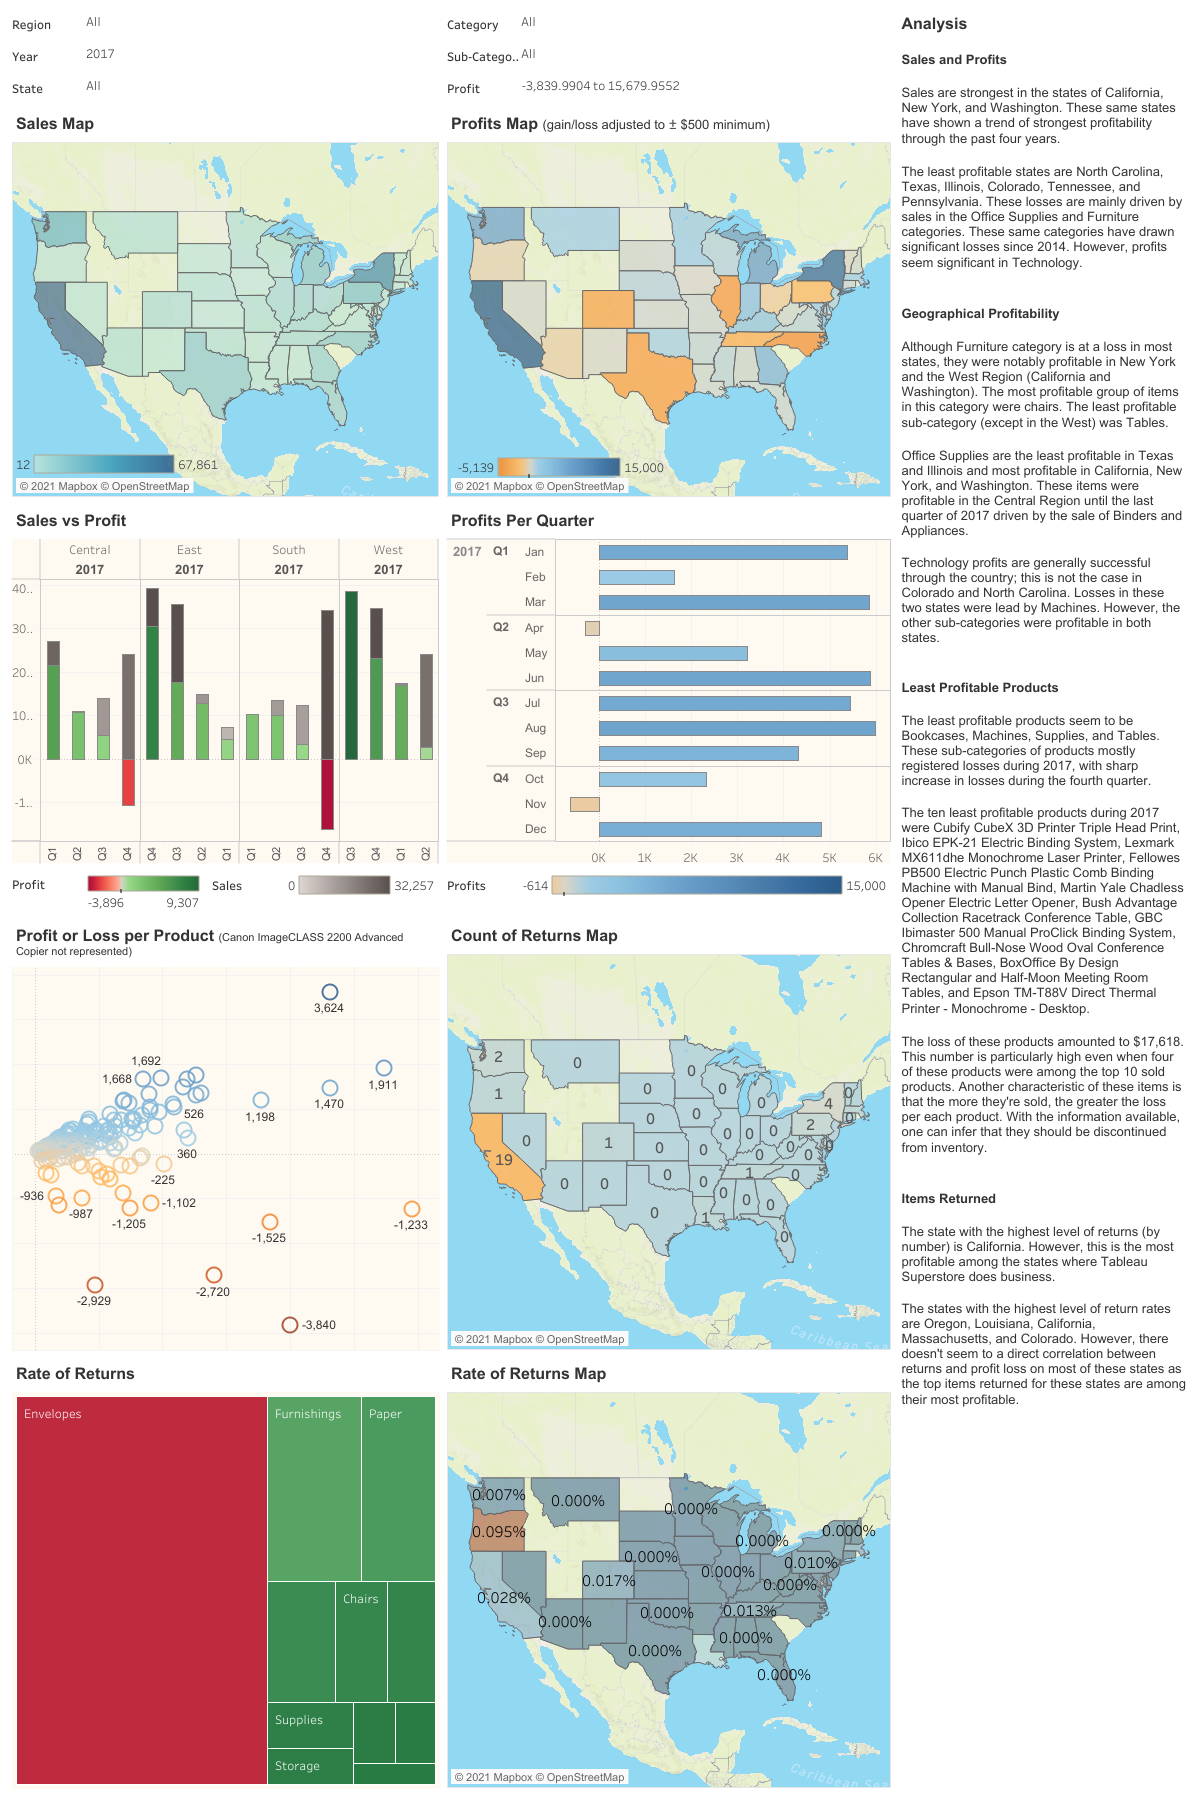

This screenshot's page, from the dashboard's own definition file:
{"tool":"tableau","page":{"name":"Sales and Profits Dashboard","canvas":[1200,1800],"ordinal":0},"visuals":[{"type":"worksheet","box":[0,0,1200,1800]},{"type":"worksheet","title":"Sales Map","mark":"Automatic","param":"[federated.139qztq1fd67im1fcwr2b0no60oc].[none:Region:nk]","box":[8,8,435,32]},{"type":"worksheet","param":"horz","box":[443,8,452.3,493]},{"type":"worksheet","box":[443,8,452.3,493]},{"type":"worksheet","box":[443,8,452.3,96]},{"type":"worksheet","box":[443,8,452.3,64]},{"type":"worksheet","param":"vert","box":[443,8,452.3,32]},{"type":"worksheet","title":"Product Profitability","mark":"Shape","rows":["Profit"],"cols":["Sales"],"param":"[federated.139qztq1fd67im1fcwr2b0no60oc].[none:Category:nk]","box":[443,8,452.3,32]},{"type":"worksheet","box":[895.3,8,296.7,1784]},{"type":"worksheet","title":"Sales vs Profit","mark":"Bar","rows":["Sales","Profit"],"cols":["Region","Order Date","Order Date"],"param":"[federated.139qztq1fd67im1fcwr2b0no60oc].[yr:Order Date:ok]","box":[8,40,435,32]},{"type":"worksheet","param":"vert","box":[443,40,452.3,32]},{"type":"worksheet","title":"Product Profitability","mark":"Shape","rows":["Profit"],"cols":["Sales"],"param":"[federated.139qztq1fd67im1fcwr2b0no60oc].[none:Sub-Category:nk]","box":[443,40,452.3,32]},{"type":"worksheet","title":"Product Profitability","mark":"Shape","rows":["Profit"],"cols":["Sales"],"param":"[federated.139qztq1fd67im1fcwr2b0no60oc].[none:State:nk]","box":[8,72,435,32]},{"type":"worksheet","param":"vert","box":[443,72,452.3,32]},{"type":"worksheet","title":"Product Profitability","mark":"Shape","rows":["Profit"],"cols":["Sales"],"param":"[federated.139qztq1fd67im1fcwr2b0no60oc].[sum:Profit:qk]","box":[443,72,452.3,32]},{"type":"worksheet","title":"Sales Map","mark":"Automatic","box":[8,104,435,397]},{"type":"worksheet","box":[443,104,452.3,397]},{"type":"worksheet","title":"Profits Map","mark":"Automatic","box":[443,104,452.3,397]},{"type":"worksheet","title":"Sales Map","mark":"Automatic","param":"[federated.139qztq1fd67im1fcwr2b0no60oc].[sum:Sales:qk]","box":[12,451,211,40]},{"type":"worksheet","title":"Profits Map","mark":"Automatic","param":"[federated.139qztq1fd67im1fcwr2b0no60oc].[sum:Profit:qk]","box":[454,454,215,39]},{"type":"worksheet","title":"Sales vs Profit","mark":"Bar","rows":["Sales","Profit"],"cols":["Region","Order Date","Order Date"],"box":[8,501,435,367]},{"type":"worksheet","title":"Profits Per Quarter","mark":"Bar","rows":["Profit"],"cols":["Order Date","Order Date","Order Date"],"box":[443,501,452.3,367]},{"type":"worksheet","title":"Sales vs Profit","mark":"Bar","rows":["Sales","Profit"],"cols":["Region","Order Date","Order Date"],"param":"[federated.139qztq1fd67im1fcwr2b0no60oc].[sum:Profit:qk]","box":[8,868,200.4,48]},{"type":"worksheet","title":"Sales vs Profit","mark":"Bar","rows":["Sales","Profit"],"cols":["Region","Order Date","Order Date"],"param":"[federated.139qztq1fd67im1fcwr2b0no60oc].[sum:Sales:qk]","box":[208.4,868,234.6,48]},{"type":"worksheet","title":"Profits Per Quarter","mark":"Bar","rows":["Profit"],"cols":["Order Date","Order Date","Order Date"],"param":"[federated.139qztq1fd67im1fcwr2b0no60oc].[sum:Profit:qk]","box":[443,868,452.3,48]},{"type":"worksheet","title":"Product Profitability","mark":"Shape","rows":["Profit"],"cols":["Sales"],"box":[8,916,435,438]},{"type":"worksheet","title":"Return Count Map","mark":"Automatic","box":[443,916,452.3,438]},{"type":"worksheet","title":"Rate of Return by Region","mark":"Automatic","box":[8,1354,435,438]},{"type":"worksheet","title":"Rate of Return Map","mark":"Automatic","box":[443,1354,452.3,438]}]}

Visuals, with their boxes in screenshot pixels (x1, y1, x2, y2), scaled from the page's 1200x1800 canvas onto the 1199x1799 screenshot:
worksheet: [0, 0, 1198, 1798]
"Sales Map" worksheet: [8, 8, 443, 40]
worksheet: [443, 8, 895, 501]
worksheet: [443, 8, 895, 501]
worksheet: [443, 8, 895, 104]
worksheet: [443, 8, 895, 72]
worksheet: [443, 8, 895, 40]
"Product Profitability" worksheet (Shape marks): [443, 8, 895, 40]
worksheet: [895, 8, 1191, 1791]
"Sales vs Profit" worksheet (Bar marks): [8, 40, 443, 72]
worksheet: [443, 40, 895, 72]
"Product Profitability" worksheet (Shape marks): [443, 40, 895, 72]
"Product Profitability" worksheet (Shape marks): [8, 72, 443, 104]
worksheet: [443, 72, 895, 104]
"Product Profitability" worksheet (Shape marks): [443, 72, 895, 104]
"Sales Map" worksheet: [8, 104, 443, 501]
worksheet: [443, 104, 895, 501]
"Profits Map" worksheet: [443, 104, 895, 501]
"Sales Map" worksheet: [12, 451, 223, 491]
"Profits Map" worksheet: [454, 454, 668, 493]
"Sales vs Profit" worksheet (Bar marks): [8, 501, 443, 868]
"Profits Per Quarter" worksheet (Bar marks): [443, 501, 895, 868]
"Sales vs Profit" worksheet (Bar marks): [8, 868, 208, 915]
"Sales vs Profit" worksheet (Bar marks): [208, 868, 443, 915]
"Profits Per Quarter" worksheet (Bar marks): [443, 868, 895, 915]
"Product Profitability" worksheet (Shape marks): [8, 915, 443, 1353]
"Return Count Map" worksheet: [443, 915, 895, 1353]
"Rate of Return by Region" worksheet: [8, 1353, 443, 1791]
"Rate of Return Map" worksheet: [443, 1353, 895, 1791]
